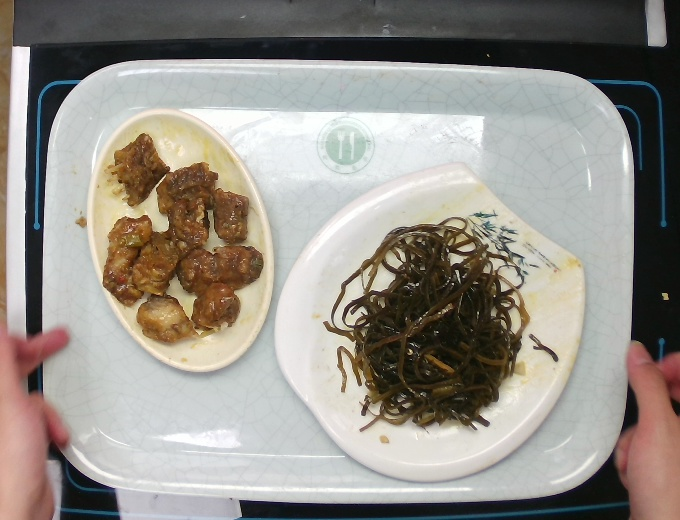JYsf-Mian_Pan: (270, 166, 598, 483)
JYsf-Tuo_Yuan_Wan: (89, 107, 276, 376)
